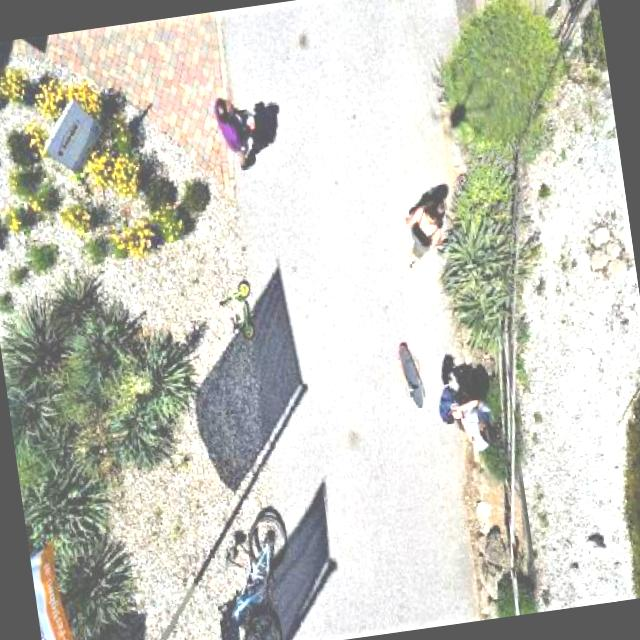Person: (395, 188, 468, 276), (447, 382, 517, 464), (208, 88, 264, 175)
